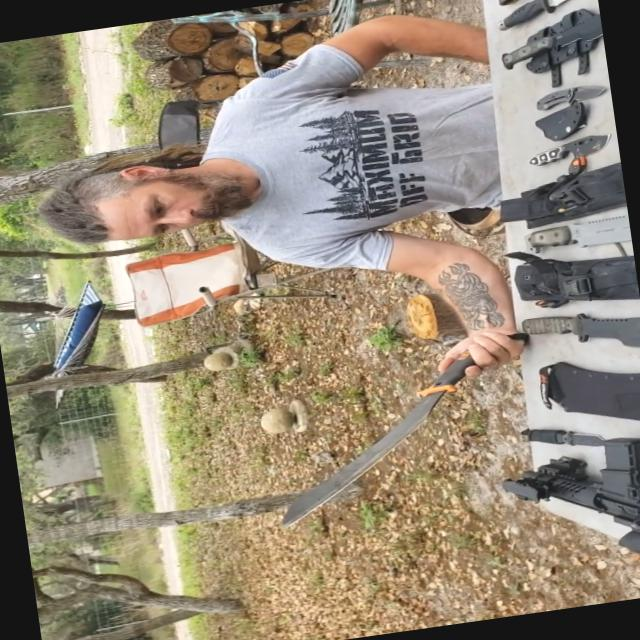knife: (249, 332, 521, 534), (501, 290, 639, 366), (486, 398, 610, 472), (508, 198, 632, 262), (486, 10, 604, 70), (508, 124, 616, 178), (476, 0, 601, 35), (516, 76, 610, 116)
long weapon: (514, 423, 639, 600)
